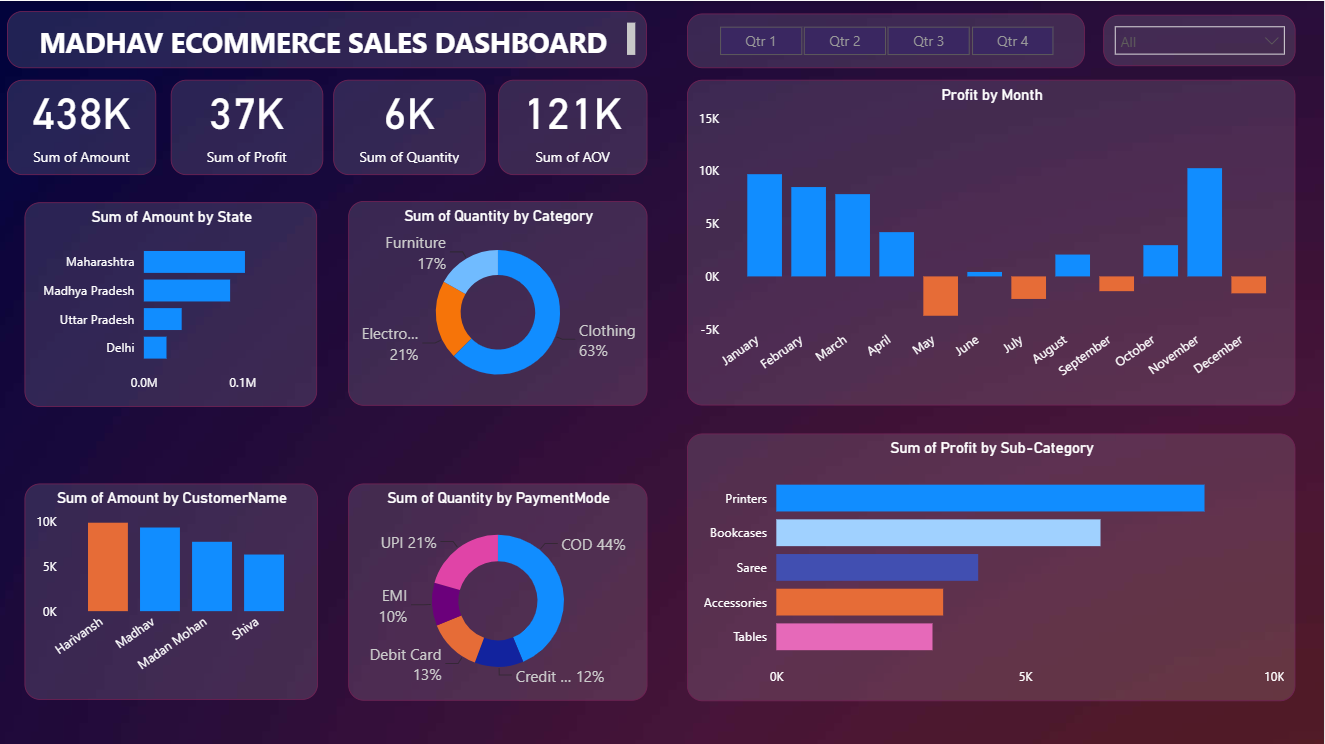

This screenshot's page, from the dashboard's own definition file:
{"tool":"powerbi","page":{"name":"Page 1","canvas":[1280,720],"ordinal":0},"visuals":[{"type":"textbox","box":[9.7,9.7,617.7,55.5],"z":0},{"type":"columnChart","title":"Profit by Month","fields":{"Y":["Sum(Details.Profit)"],"Category":["Orders.Order Date.Variation.Date Hierarchy.Month"]},"box":[666.6,76.5,587.2,314.5],"z":1000},{"type":"barChart","fields":{"Category":["Details.Sub-Category"],"Y":["Sum(Details.Profit)"]},"box":[666.6,417,587.2,258.3],"z":2000},{"type":"donutChart","fields":{"Category":["Details.Category"],"Y":["Sum(Details.Quantity)"]},"box":[339,193.3,288.6,197.7],"z":3000},{"type":"donutChart","fields":{"Y":["Sum(Details.Quantity)"],"Series":["Details.PaymentMode"]},"box":[339,466,288.6,209.2],"z":4000},{"type":"cardVisual","fields":{"Data":["Sum(Details.Amount)"]},"box":[10.1,76.5,144.3,92.3],"z":5000},{"type":"cardVisual","fields":{"Data":["Sum(Details.Profit)"]},"box":[167.4,76.5,147.2,92.3],"z":6000},{"type":"cardVisual","fields":{"Data":["Sum(Details.Quantity)"]},"box":[324.6,76.5,147.2,92.3],"z":7000},{"type":"cardVisual","fields":{"Data":["Sum(Details.AOV)"]},"box":[483.3,76.5,144.3,92.3],"z":8000},{"type":"barChart","fields":{"Category":["Orders.State"],"Y":["Sum(Details.Amount)"]},"box":[26,194.8,282.8,197.7],"z":9000},{"type":"columnChart","fields":{"Category":["Orders.CustomerName"],"Y":["Sum(Details.Amount)"]},"box":[26,466,283,209],"z":10000},{"type":"slicer","fields":{"Values":["Orders.Order Date.Variation.Date Hierarchy.Quarter"]},"box":[666,12.1,383.6,53.1],"z":11000},{"type":"slicer","fields":{"Values":["Orders.State"]},"box":[1067.7,13.3,185.8,49.5],"z":12000}]}

Visuals, with their boxes in screenshot pixels (x1, y1, x2, y2), scaled from the page's 1280x720 canvas onto the 1325x744 screenshot:
textbox: x1=10, y1=10, x2=649, y2=67
"Profit by Month" columnChart: x1=690, y1=79, x2=1298, y2=404
barChart - Details.Sub-Category x Sum(Details.Profit): x1=690, y1=431, x2=1298, y2=698
donutChart - Details.Category x Sum(Details.Quantity): x1=351, y1=200, x2=650, y2=404
donutChart - Sum(Details.Quantity) x Details.PaymentMode: x1=351, y1=482, x2=650, y2=698
cardVisual - Sum(Details.Amount): x1=10, y1=79, x2=160, y2=174
cardVisual - Sum(Details.Profit): x1=173, y1=79, x2=326, y2=174
cardVisual - Sum(Details.Quantity): x1=336, y1=79, x2=488, y2=174
cardVisual - Sum(Details.AOV): x1=500, y1=79, x2=650, y2=174
barChart - Orders.State x Sum(Details.Amount): x1=27, y1=201, x2=320, y2=406
columnChart - Orders.CustomerName x Sum(Details.Amount): x1=27, y1=482, x2=320, y2=698
slicer - Orders.Order Date.Variation.Date Hierarchy.Quarter: x1=689, y1=13, x2=1086, y2=67
slicer - Orders.State: x1=1105, y1=14, x2=1298, y2=65
